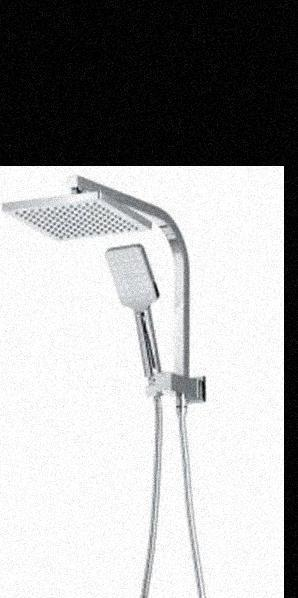Ducha: (0, 172, 239, 598)
